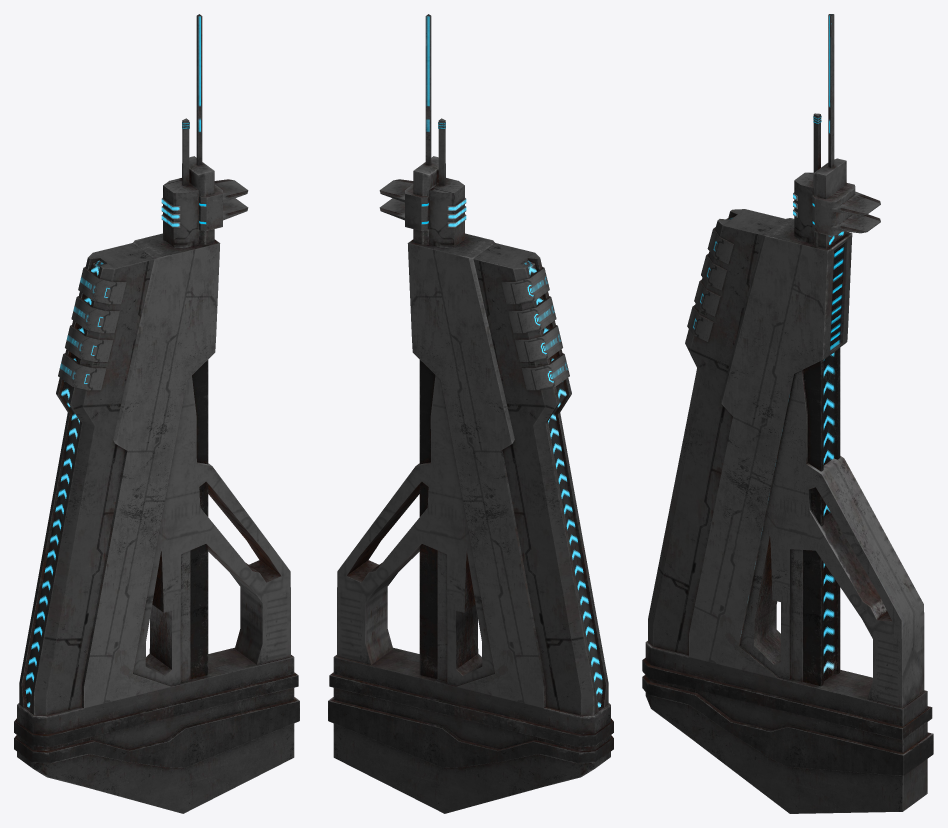
The model's file is forge_world_forerunner_tower_-_free_download.glb.
The picture shows the model from 3 angles, left to right: view 1: azimuth 30°, elevation 25°; view 2: azimuth 150°, elevation 25°; view 3: azimuth 330°, elevation 25°; orthographic projection.
Visible parts, largest first — view 1: Base, AttachmentsMiddle, BottomOutlines, TopAntenna, Middle, BaseFrontTop; view 2: Base, AttachmentsMiddle, BottomOutlines, TopAntenna, Middle, BaseFrontTop; view 3: Base, AttachmentsMiddle, BottomOutlines, Middle, TopAntenna, BaseFrontTop.
Boxes of the visible parts, x1=… form: Base: x1=17, y1=233, x2=294, y2=813; AttachmentsMiddle: x1=133, y1=375, x2=290, y2=685; BottomOutlines: x1=14, y1=672, x2=299, y2=767; TopAntenna: x1=161, y1=14, x2=248, y2=247; Middle: x1=180, y1=360, x2=208, y2=681; BaseFrontTop: x1=58, y1=267, x2=126, y2=390; Base: x1=333, y1=233, x2=610, y2=813; AttachmentsMiddle: x1=337, y1=375, x2=494, y2=685; BottomOutlines: x1=328, y1=672, x2=613, y2=767; TopAntenna: x1=379, y1=14, x2=466, y2=247; Middle: x1=419, y1=360, x2=447, y2=681; BaseFrontTop: x1=501, y1=267, x2=569, y2=390; Base: x1=645, y1=209, x2=927, y2=813; AttachmentsMiddle: x1=740, y1=370, x2=924, y2=707; BottomOutlines: x1=642, y1=658, x2=933, y2=776; Middle: x1=791, y1=347, x2=840, y2=686; TopAntenna: x1=793, y1=14, x2=880, y2=248; BaseFrontTop: x1=687, y1=218, x2=734, y2=341.
Bounding box in the file's own units: 0.701 × 2 × 0.1352.
Materials: 1 (1 with a texture image).
